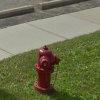Hydrant: (22, 36, 68, 97)
